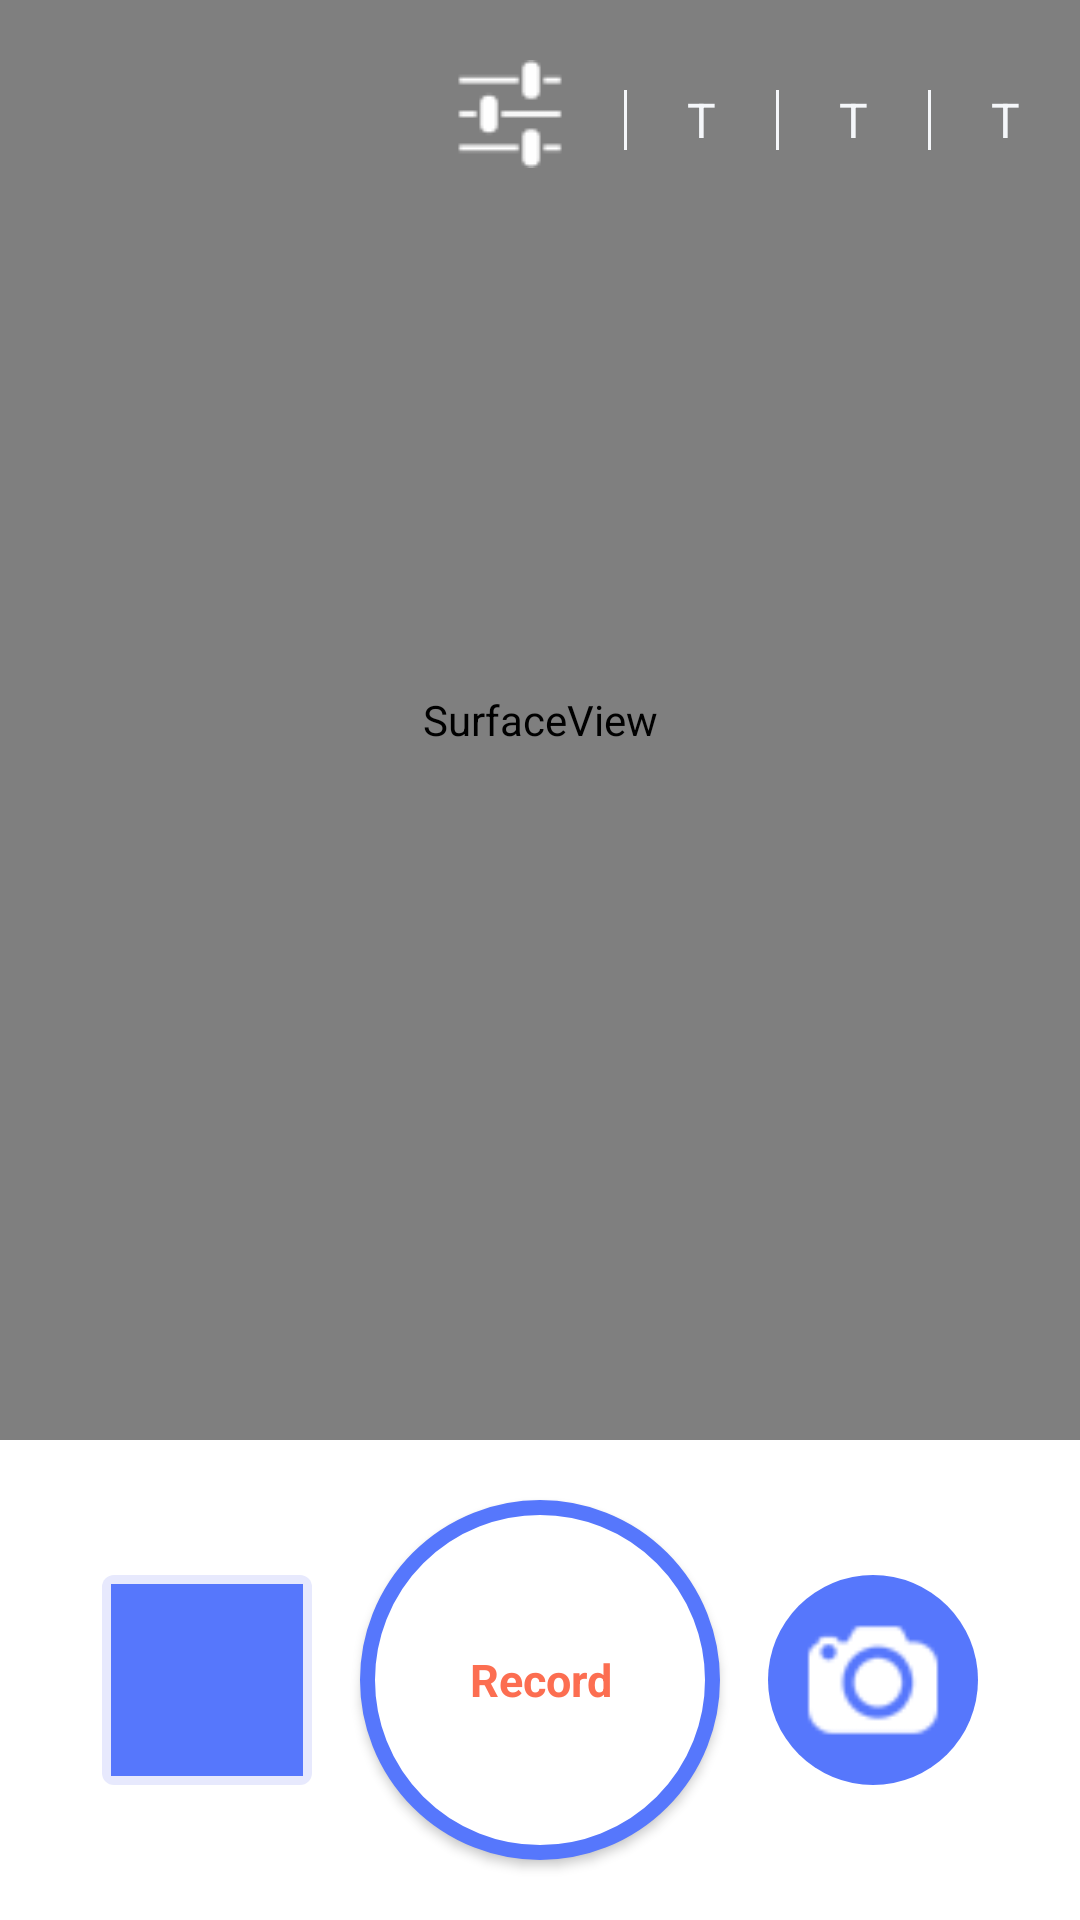

Icons on this 1080w x 1920h Android screen, each with the point to tap as (x=x, y=y):
camera: (x=873, y=1680)
settings: (x=510, y=114)
